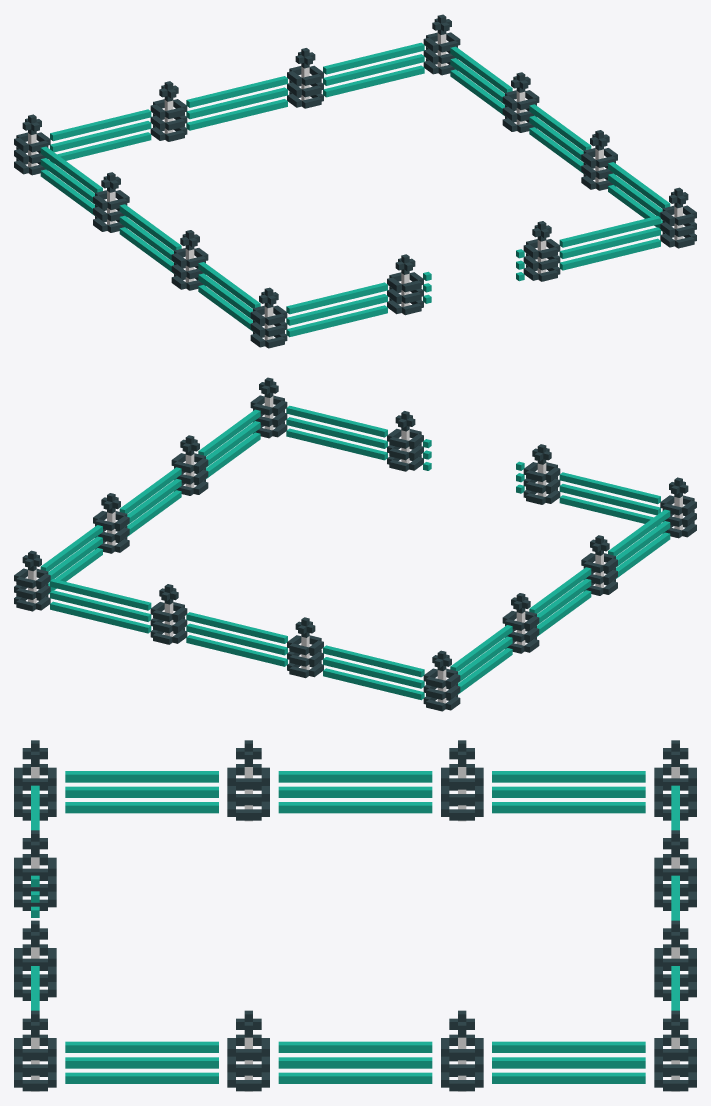
The model's file is laser_fence_overtile.obj.
3 views of the same model, one above another, from view 1: azimuth 30°, elevation 25°; view 2: azimuth 150°, elevation 25°; view 3: azimuth 270°, elevation 25° (orthographic). The views are drawn at different scales.
Size of the model in its own units: 8 by 1 by 8.
Materials: 1 (1 with a texture image).
